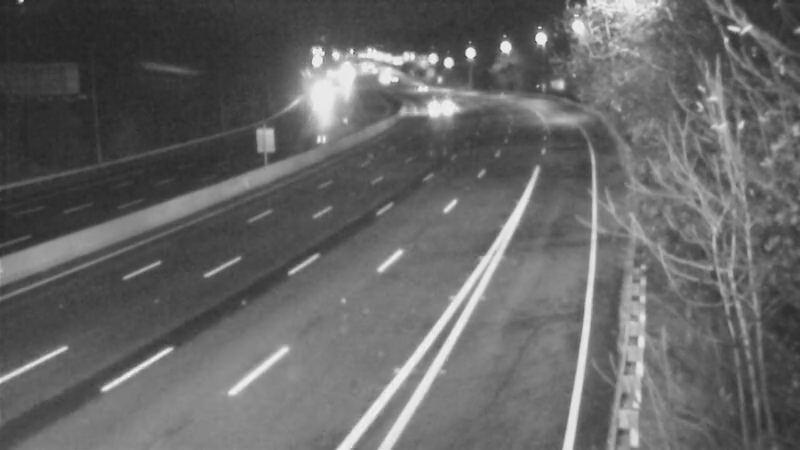vehicle: (390, 63, 440, 113), (415, 80, 465, 130)
